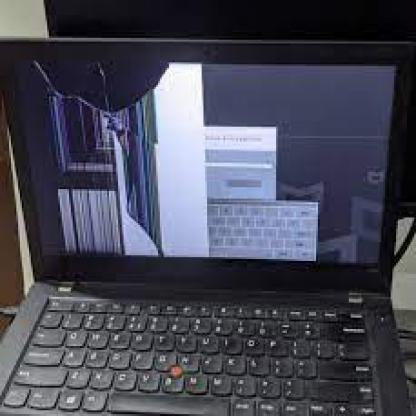crack: (29, 60, 214, 261)
lines: (60, 189, 122, 253)
